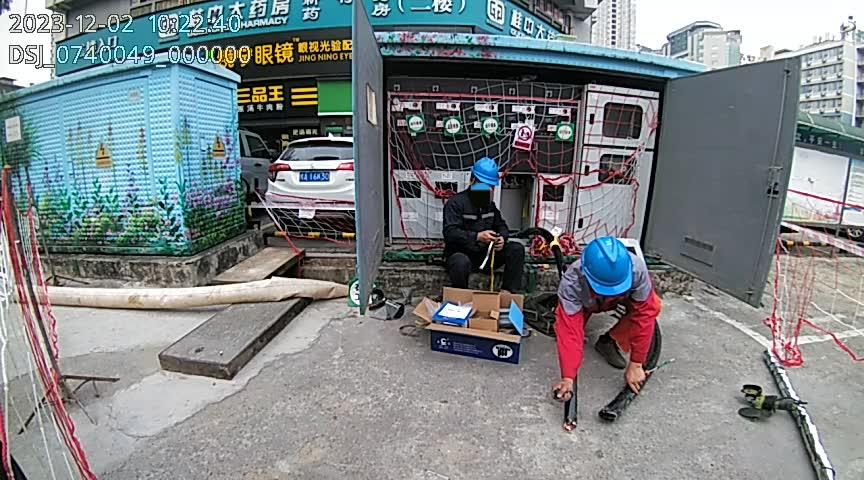halt: (581, 239, 639, 300), (470, 160, 504, 202)
